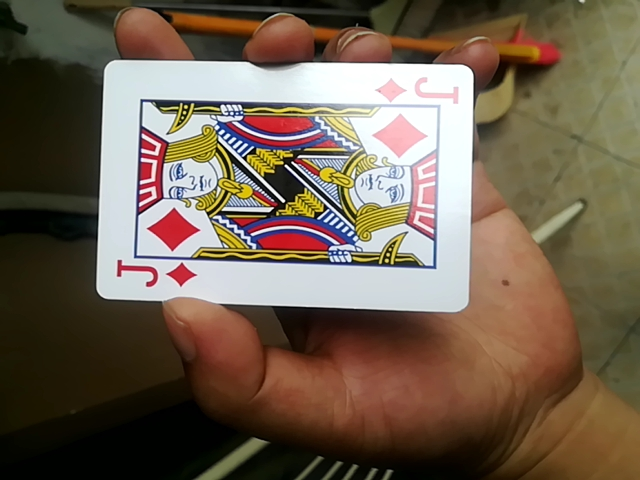fk j: (99, 61, 477, 319)
